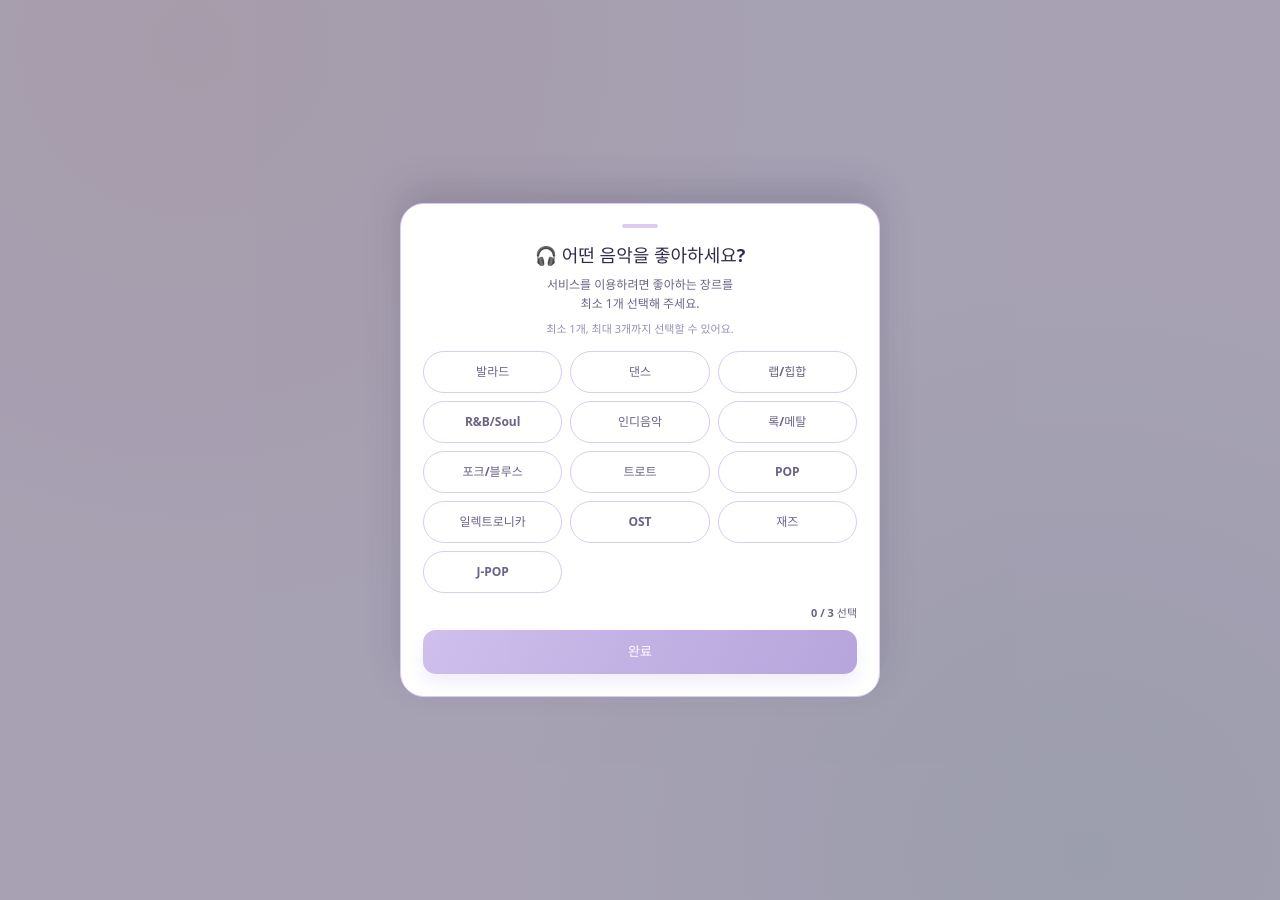
Test case: GenreOnboardingSheet › keeps the dialog open and shows an error when saving fails
Click the button "재즈": (787, 522) [718,501,857,543]
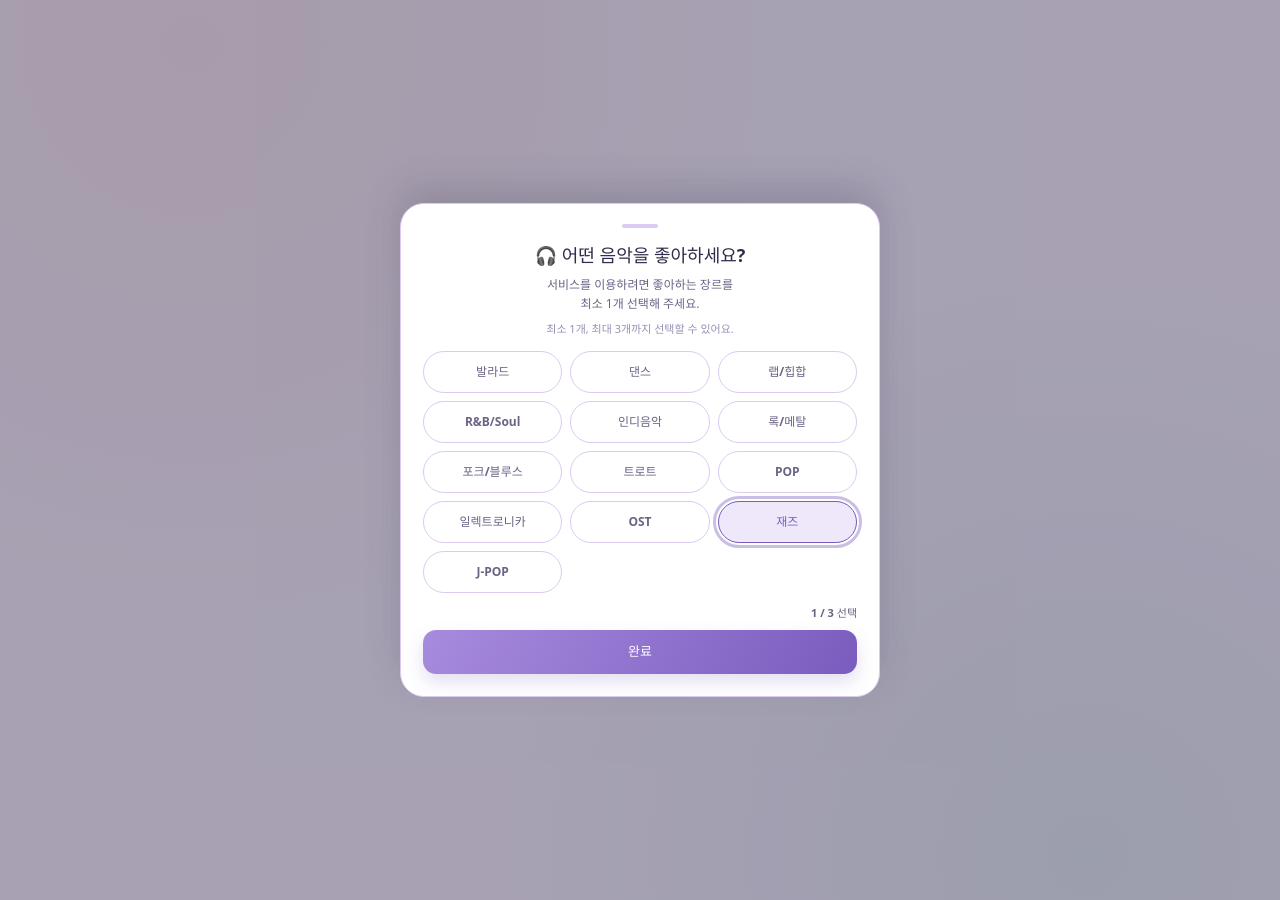
Click the button "완료": (640, 652) [423,630,857,674]
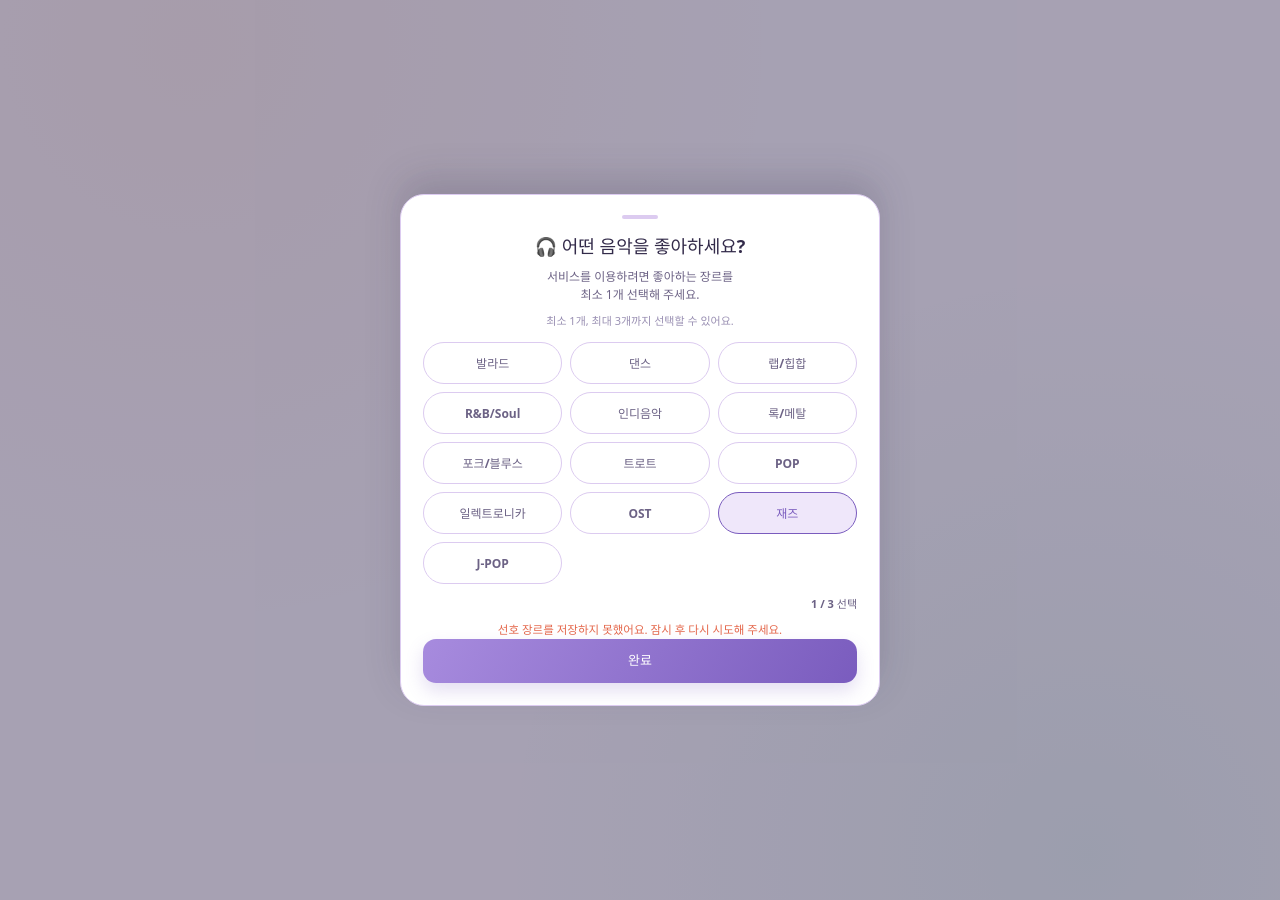
Check: the dialog is shown, box [400,194,880,706]
Check: the message "선호 장르를 저장하지 못했어요. 잠시 후 다시 시도해 주세요." is shown, box [498,622,782,637]
